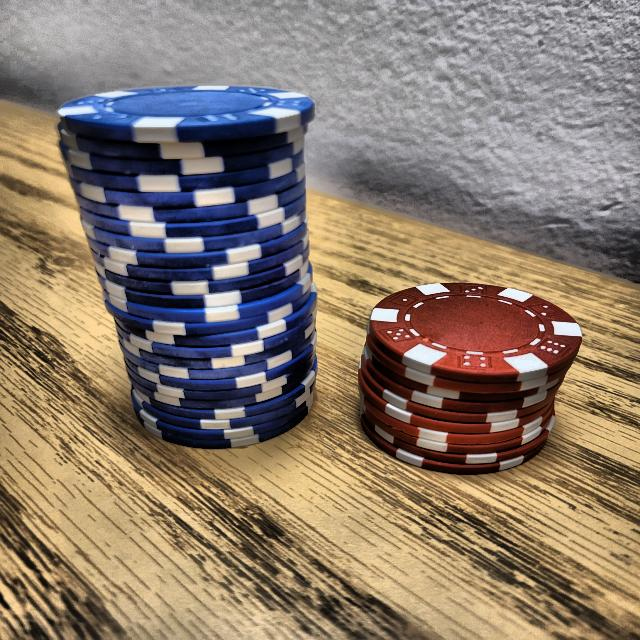Chip: (39, 57, 349, 478), (343, 254, 589, 504)
